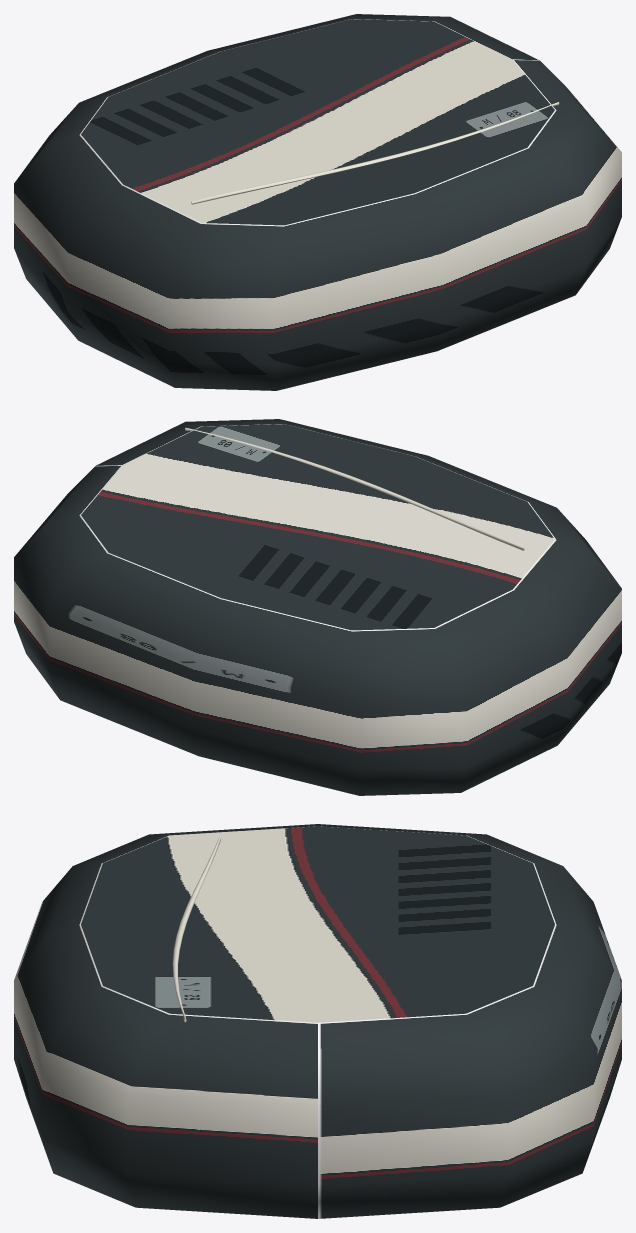
The model's file is MotorCowl_08_N_炭紺・白筋.glb.
3 views of the same model, one above another, from view 1: azimuth 30°, elevation 25°; view 2: azimuth 150°, elevation 25°; view 3: azimuth 270°, elevation 25° (orthographic). The views are drawn at different scales.
Visible parts, largest first — view 1: MotorCowl_08_N; view 2: MotorCowl_08_N; view 3: MotorCowl_08_N.
Boxes of the visible parts, x1,y1,x2,y2 form: MotorCowl_08_N: (14,14,621,390); MotorCowl_08_N: (14,419,621,795); MotorCowl_08_N: (14,824,621,1218).
Bounding box in the file's own units: 0.332 × 0.1188 × 0.286.
1 material, 1 textured.
